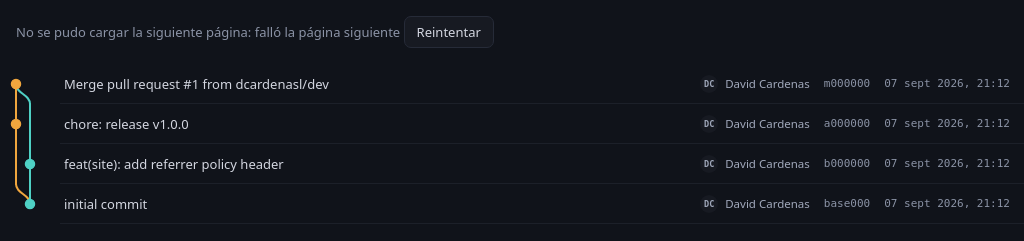
HistoryView › keeps loaded commits visible and retries a failed next page
Click the button "Reintentar": (449,32) [404, 16, 494, 48]
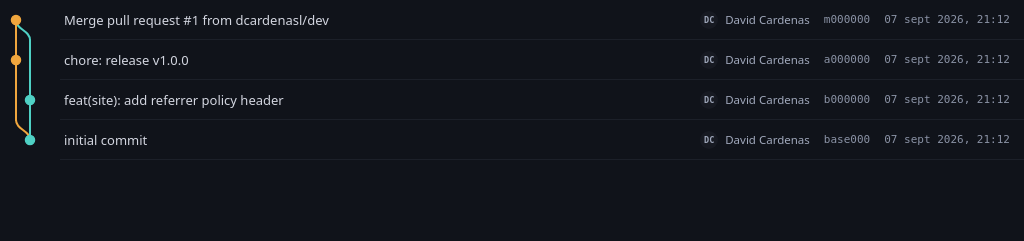
Expected: the message "No se pudo cargar la siguiente página: falló la página siguiente Reintentar" is gone
